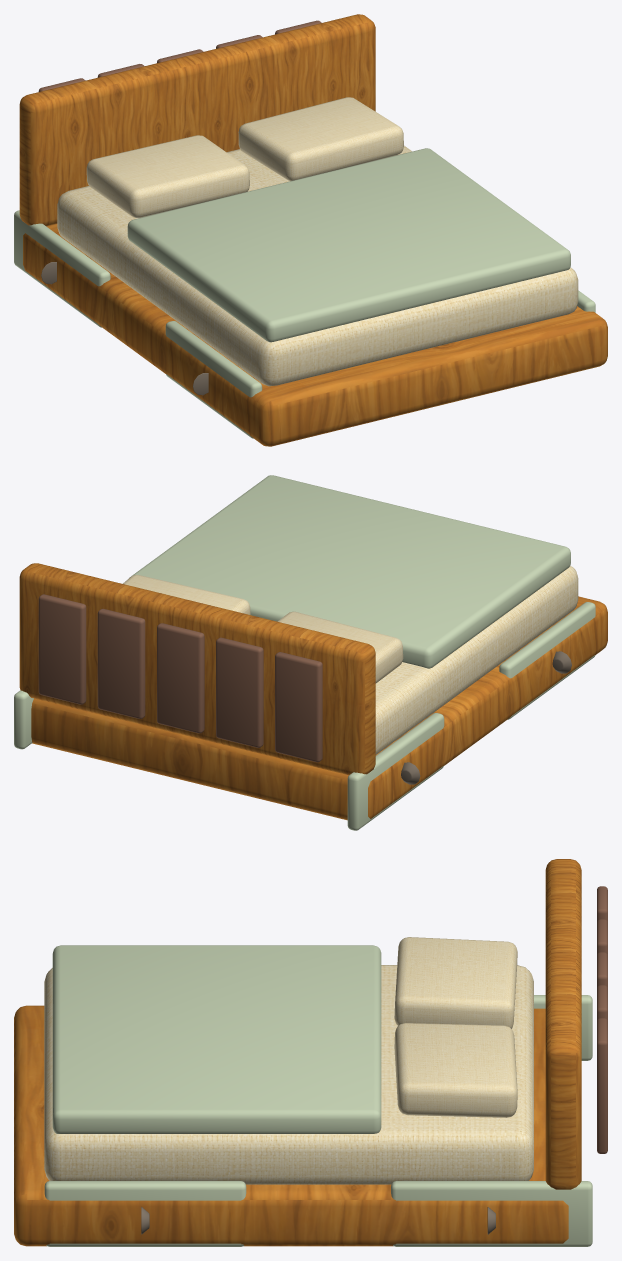
The model's file is storage-platform-bed.glb.
3 renders of one model, top to bottom at view 1: azimuth 30°, elevation 25°; view 2: azimuth 150°, elevation 25°; view 3: azimuth 270°, elevation 25°, orthographic. The views are drawn at different scales.
Visible parts, largest first — view 1: storage-platform-bed; view 2: storage-platform-bed; view 3: storage-platform-bed.
Boxes of the visible parts, bbox=[...] form: storage-platform-bed: bbox=[14, 14, 607, 446]; storage-platform-bed: bbox=[14, 475, 607, 830]; storage-platform-bed: bbox=[14, 859, 607, 1246].
Bounding box in the file's own units: 1.8 × 0.8 × 2.14.
Materials: 6 (2 with a texture image).
